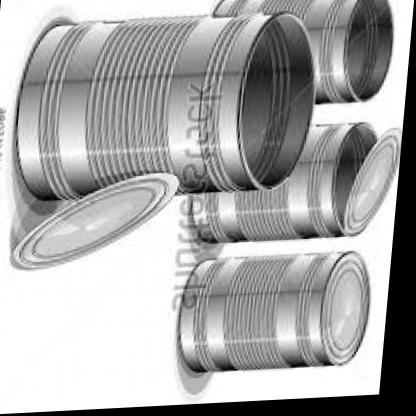Metal: (0, 0, 406, 408)
